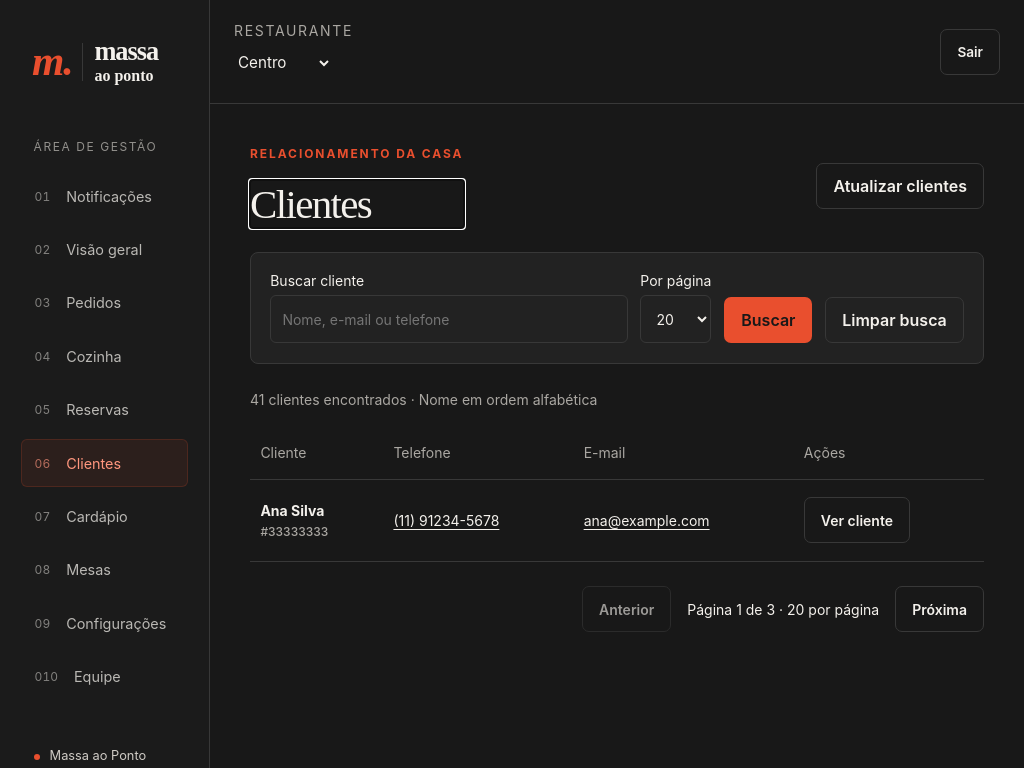
Test: Customers UI › uses pagination metadata rather than the current row count
Check: the text "Página 1 de 3 · 20 por página" is shown, box [687,600,879,618]
Click the button "Próxima": (940, 609) [895,586,984,632]
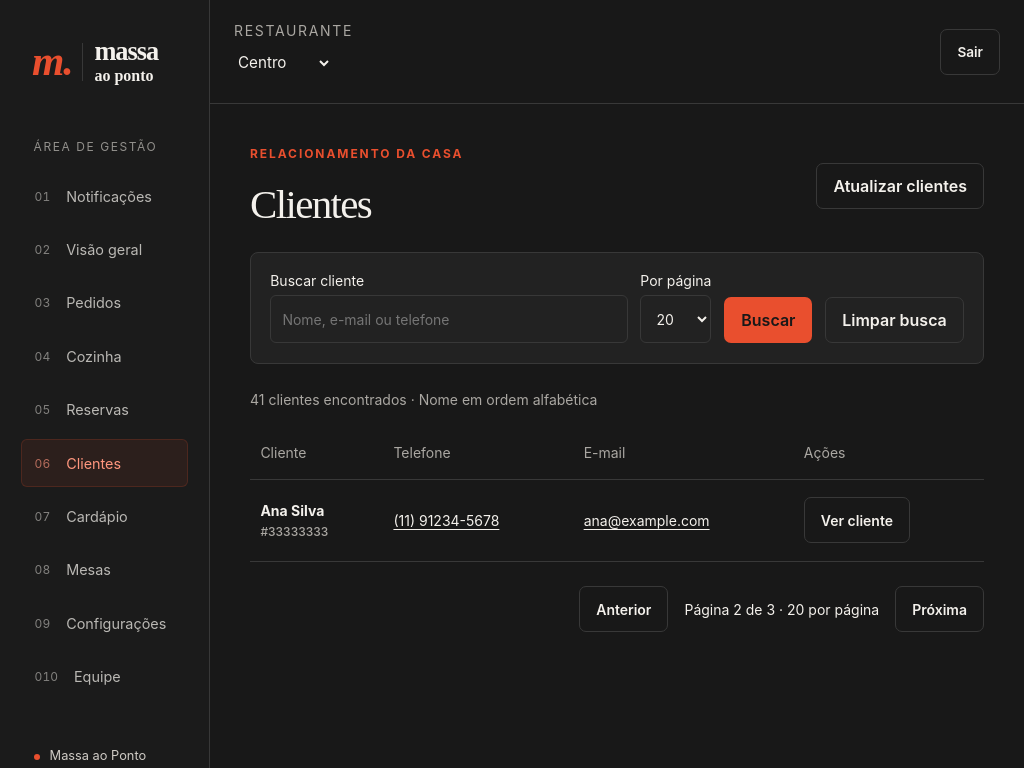
Check: the text "Página 2 de 3 · 20 por página" is shown, box [684,600,879,618]
Click the button "Próxima": (940, 609) [895,586,984,632]
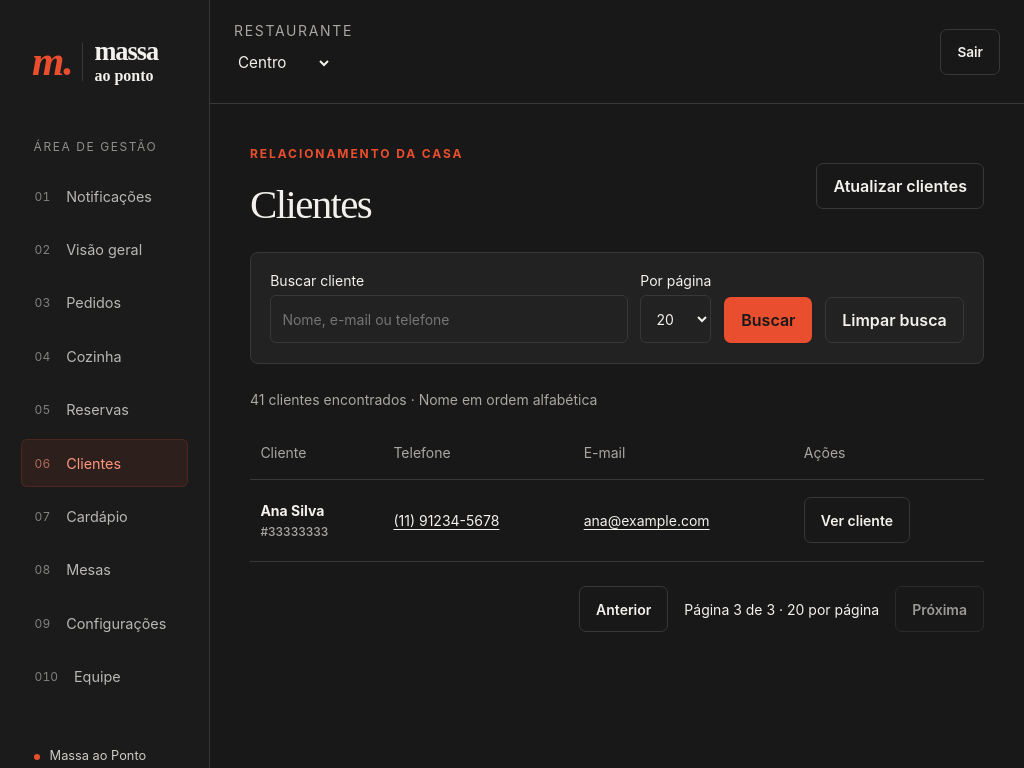
Check: the text "Página 3 de 3 · 20 por página" is shown, box [684,600,879,618]
Check: the button "Próxima" is disabled, box [895,586,984,632]
